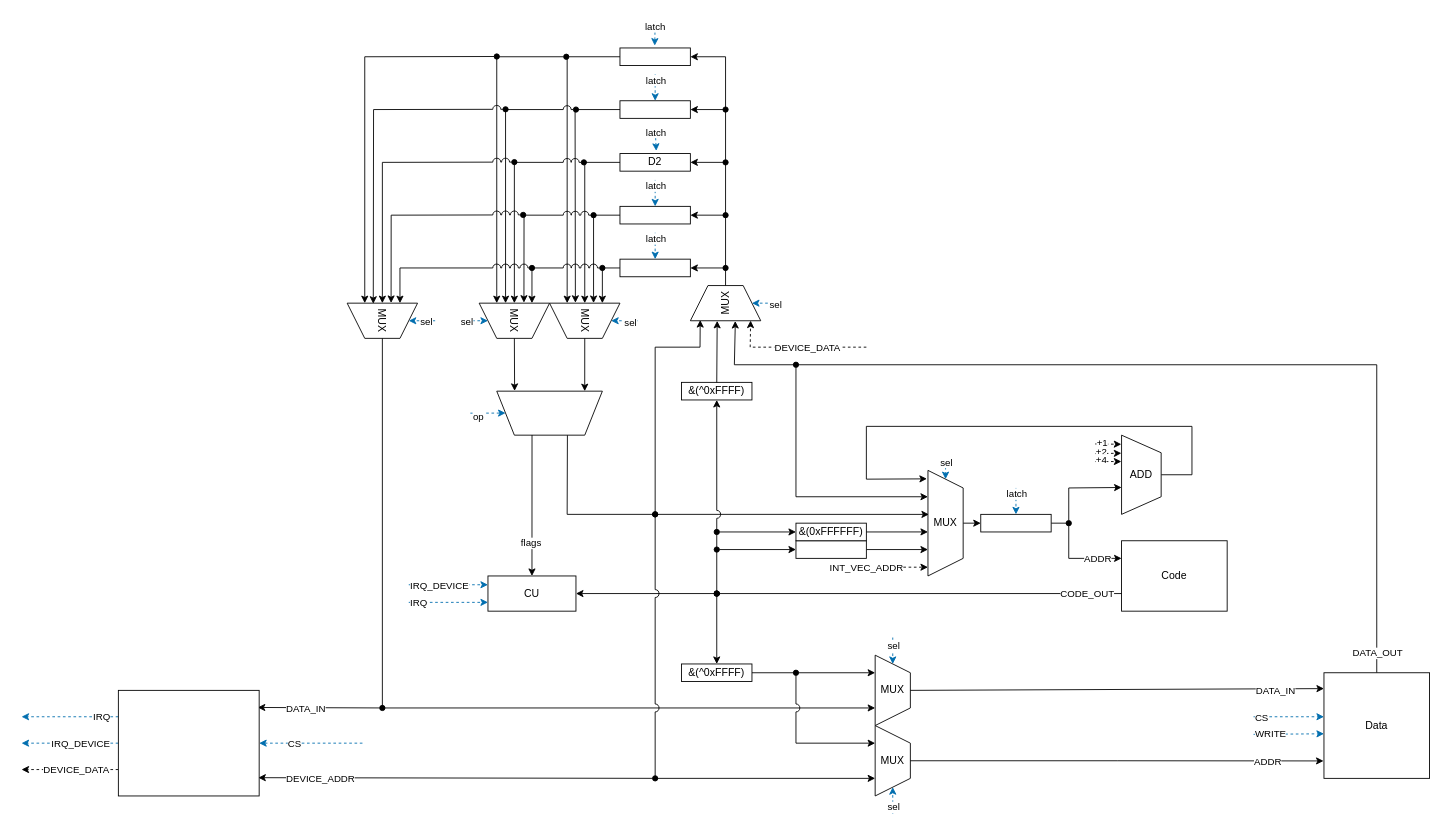
Some shapes in this 1445 by 836 pixel diagram are drawn without their labels. The shapes that lost their labels are listed below. From the top down, each one's centre as x and y in pixels, then its label:
pixel 654 56: D0
pixel 654 109: D1
pixel 654 214: A0
pixel 654 267: A1
pixel 549 412: ALU
pixel 1015 522: PC
pixel 830 549: &(^0xFF)
pixel 188 742: EXTERNAL DEVICES CONTROLLER
